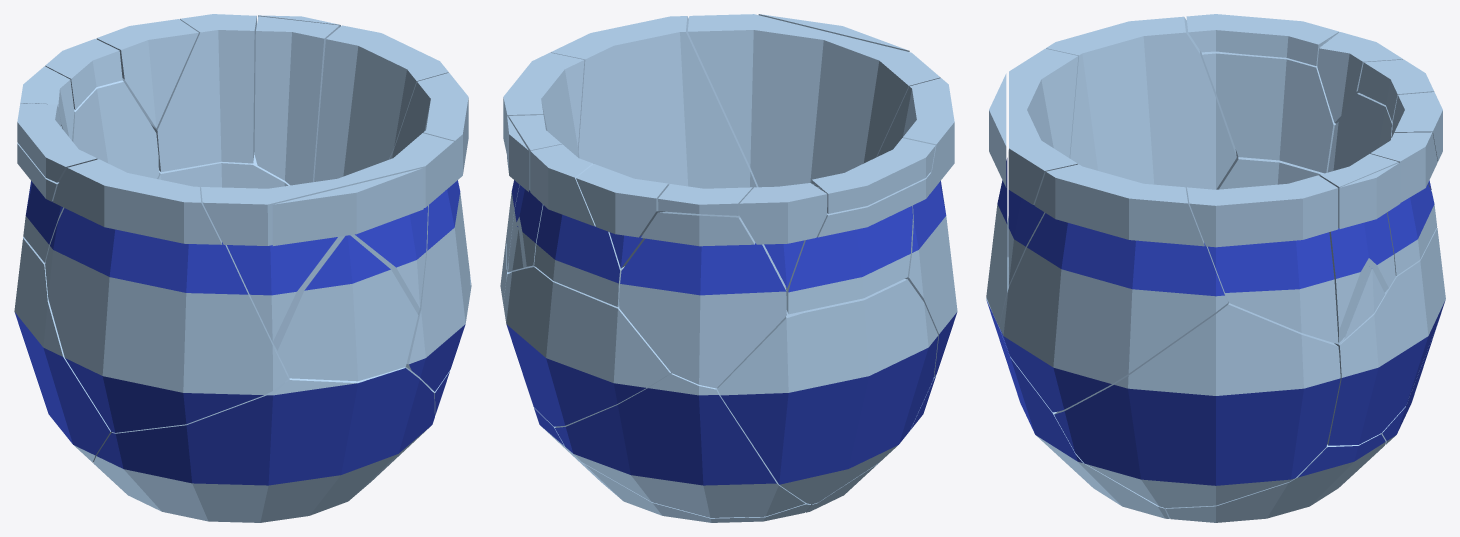
Rendered from LargePotShatter.fbx.
3 views of the same model, side by side, from view 1: azimuth 30°, elevation 25°; view 2: azimuth 150°, elevation 25°; view 3: azimuth 270°, elevation 25° (orthographic).
Visible parts, largest first — view 1: Pot_Large_cell.010, Pot_Large_cell.019, Pot_Large_cell.005, Pot_Large_cell.015, Pot_Large_cell.016, Pot_Large_cell.017, Pot_Large_cell.003, Pot_Large_cell, Pot_Large_cell.007, Pot_Large_cell.020, Pot_Large_cell.013, Pot_Large_cell.014 (+5 smaller); view 2: Pot_Large_cell.007, Pot_Large_cell.005, Pot_Large_cell.016, Pot_Large_cell.013, Pot_Large_cell.006, Pot_Large_cell.011, Pot_Large_cell.001, Pot_Large_cell.010, Pot_Large_cell.003, Pot_Large_cell.017, Pot_Large_cell.008, Pot_Large_cell.014 (+7 smaller); view 3: Pot_Large_cell.004, Pot_Large_cell.016, Pot_Large_cell.010, Pot_Large_cell.017, Pot_Large_cell.011, Pot_Large_cell.001, Pot_Large_cell.005, Pot_Large_cell.002, Pot_Large_cell, Pot_Large_cell.003, Pot_Large_cell.012, Pot_Large_cell.019 (+10 smaller).
Part boxes in pixels (x1=…): Pot_Large_cell.010: x1=45, y1=159, x2=288, y2=432; Pot_Large_cell.019: x1=93, y1=367, x2=434, y2=522; Pot_Large_cell.005: x1=201, y1=133, x2=453, y2=350; Pot_Large_cell.015: x1=277, y1=235, x2=418, y2=381; Pot_Large_cell.016: x1=390, y1=73, x2=470, y2=391; Pot_Large_cell.017: x1=314, y1=25, x2=448, y2=181; Pot_Large_cell.003: x1=150, y1=14, x2=256, y2=172; Pot_Large_cell: x1=254, y1=16, x2=339, y2=185; Pot_Large_cell.007: x1=14, y1=237, x2=111, y2=462; Pot_Large_cell.020: x1=272, y1=168, x2=423, y2=245; Pot_Large_cell.013: x1=72, y1=80, x2=158, y2=178; Pot_Large_cell.014: x1=96, y1=19, x2=198, y2=127; Pot_Large_cell.007: x1=717, y1=279, x2=938, y2=504; Pot_Large_cell.005: x1=687, y1=14, x2=940, y2=187; Pot_Large_cell.016: x1=550, y1=16, x2=758, y2=188; Pot_Large_cell.013: x1=619, y1=211, x2=786, y2=388; Pot_Large_cell.006: x1=555, y1=372, x2=805, y2=517; Pot_Large_cell.011: x1=503, y1=267, x2=670, y2=426; Pot_Large_cell.001: x1=785, y1=172, x2=931, y2=314; Pot_Large_cell.010: x1=877, y1=78, x2=957, y2=377; Pot_Large_cell.003: x1=530, y1=144, x2=624, y2=306; Pot_Large_cell.017: x1=503, y1=52, x2=584, y2=271; Pot_Large_cell.008: x1=739, y1=183, x2=827, y2=288; Pot_Large_cell.014: x1=576, y1=164, x2=668, y2=268; Pot_Large_cell.004: x1=1054, y1=301, x2=1340, y2=507; Pot_Large_cell.016: x1=999, y1=164, x2=1228, y2=412; Pot_Large_cell.010: x1=1007, y1=16, x2=1236, y2=257; Pot_Large_cell.017: x1=1187, y1=175, x2=1338, y2=344; Pot_Large_cell.011: x1=1327, y1=228, x2=1445, y2=445; Pot_Large_cell.001: x1=1201, y1=51, x2=1335, y2=173; Pot_Large_cell.005: x1=1008, y1=48, x2=1078, y2=287; Pot_Large_cell.002: x1=1166, y1=433, x2=1385, y2=522; Pot_Large_cell: x1=1320, y1=154, x2=1398, y2=342; Pot_Large_cell.003: x1=1370, y1=132, x2=1437, y2=275; Pot_Large_cell.012: x1=1186, y1=14, x2=1338, y2=65; Pot_Large_cell.019: x1=986, y1=257, x2=1169, y2=518.
Size of the model in its own units: 57.7 by 49.42 by 57.7.
